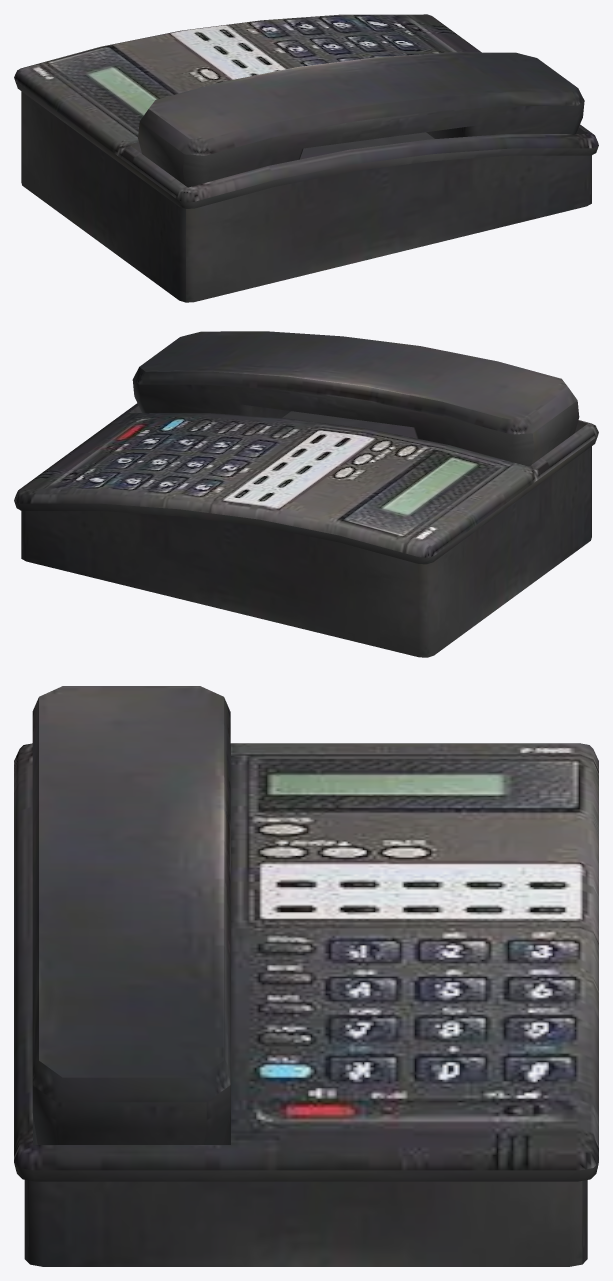
Rendered from phone.glb.
3 views of the same model, one above another, from view 1: azimuth 30°, elevation 25°; view 2: azimuth 150°, elevation 25°; view 3: azimuth 270°, elevation 25° (orthographic). The views are drawn at different scales.
Visible parts, largest first — view 1: 0_phone; view 2: 0_phone; view 3: 0_phone.
Boxes of the visible parts, x1,y1,x2,y2 form: 0_phone: [14, 14, 598, 302]; 0_phone: [14, 331, 598, 657]; 0_phone: [14, 686, 598, 1266].
Bounding box in the file's own units: 0.2697 × 0.0955 × 0.1941.
Materials: 1 (1 with a texture image).
